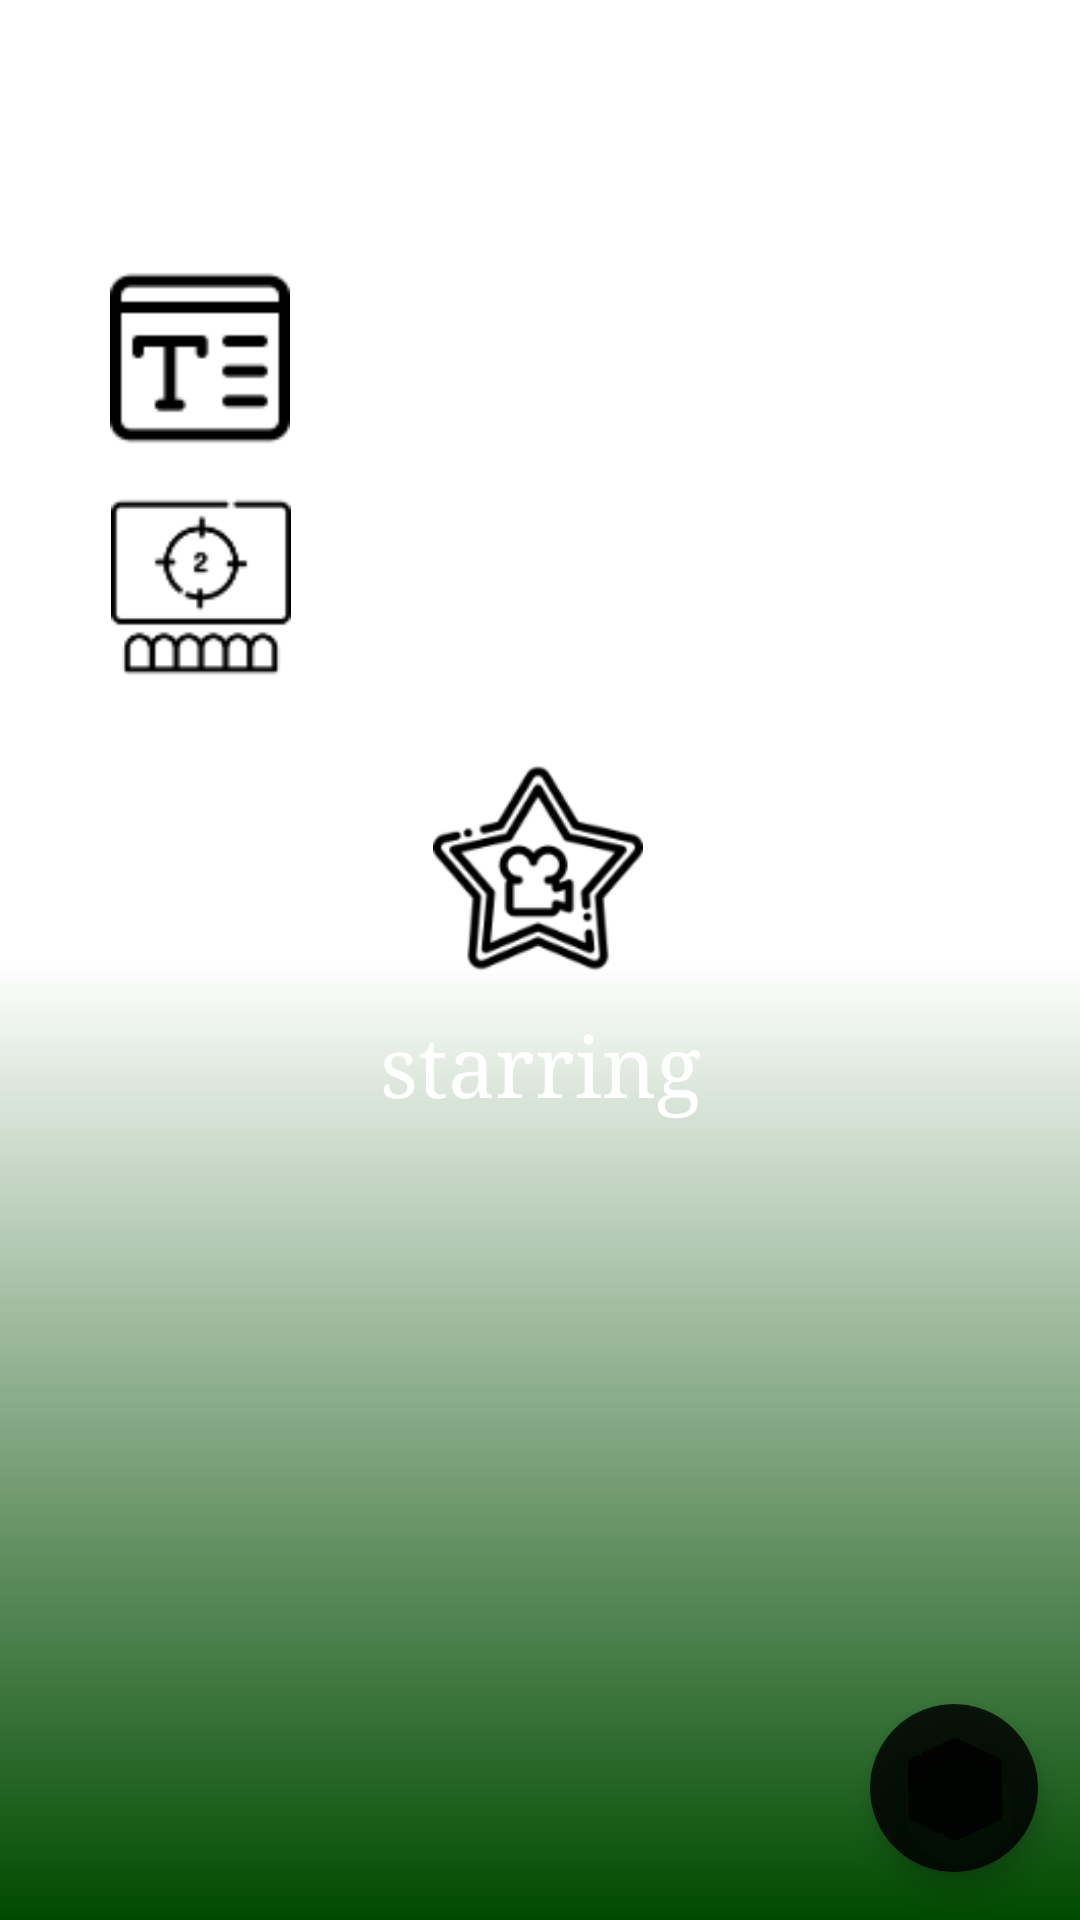

Named icons in this screenshot (1080x1920) and their bounding boxes, Rect(x1, y1, x2, y2):
ep premiere: Rect(111, 500, 291, 675)
ep title: Rect(110, 273, 290, 443)
